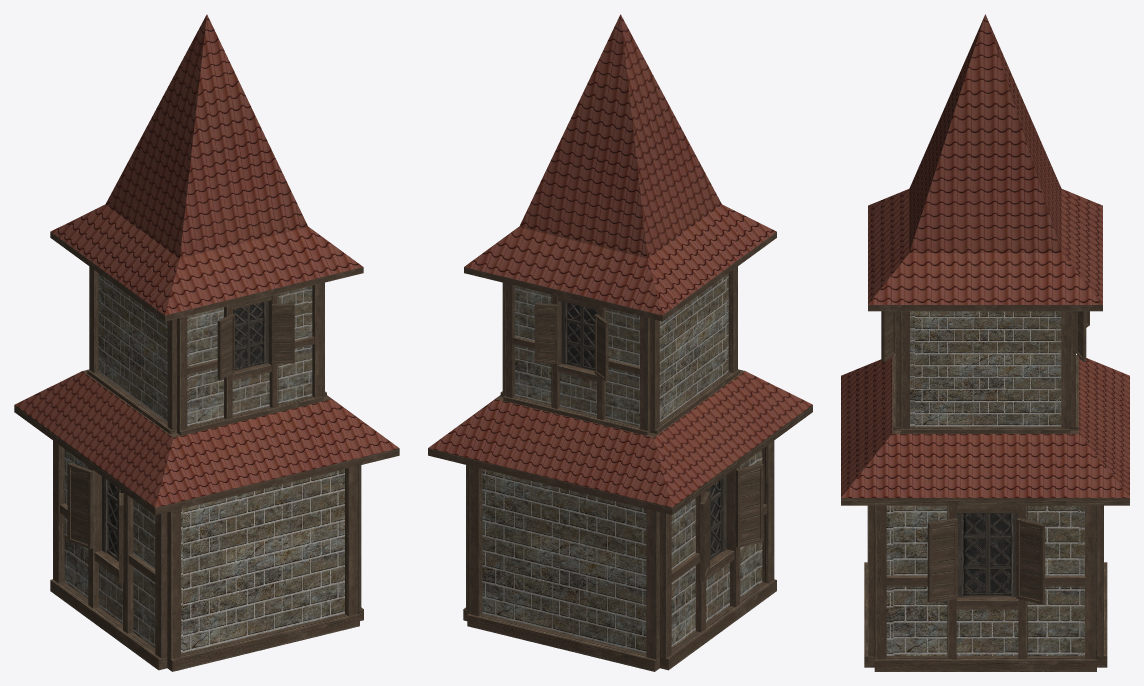
Rendered from ARC1010373.fbx.
3 views of the same model, side by side, from view 1: azimuth 30°, elevation 25°; view 2: azimuth 150°, elevation 25°; view 3: azimuth 270°, elevation 25° (orthographic). The views are drawn at different scales.
Parts seen in each view (by area): view 1: smARC1010373; view 2: smARC1010373; view 3: smARC1010373.
Part boxes in pixels (x1,y1,x2,y2): smARC1010373: [14, 14, 399, 671]; smARC1010373: [428, 14, 812, 671]; smARC1010373: [841, 14, 1129, 671].
Bounding box in the file's own units: 401 × 929 × 401.
Materials: 1 (1 with a texture image).
